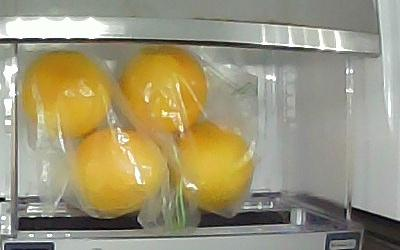grapefruit_vinyl: (68, 130, 168, 217), (161, 123, 255, 207), (25, 52, 112, 138), (120, 48, 205, 135)
